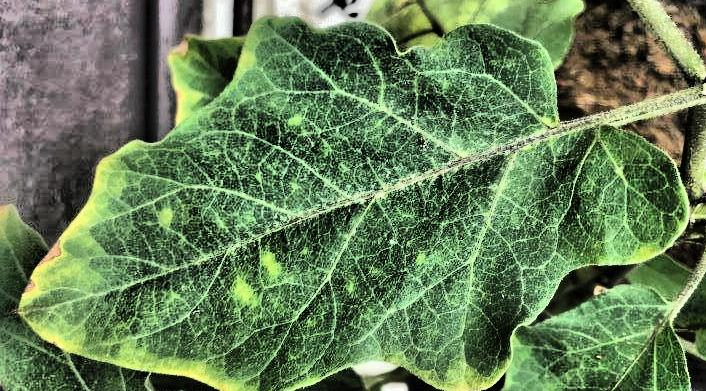Non-critical Stress: (1, 0, 706, 391)
